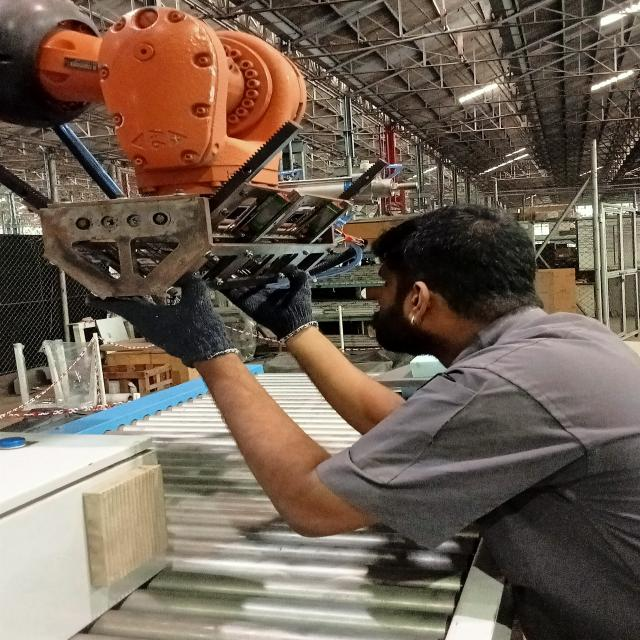Gloves-Detection: (90, 278, 240, 367), (223, 269, 310, 337)
